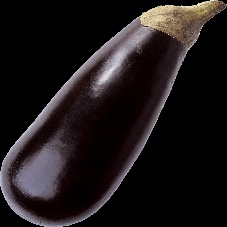eggplant: (2, 5, 214, 225)
